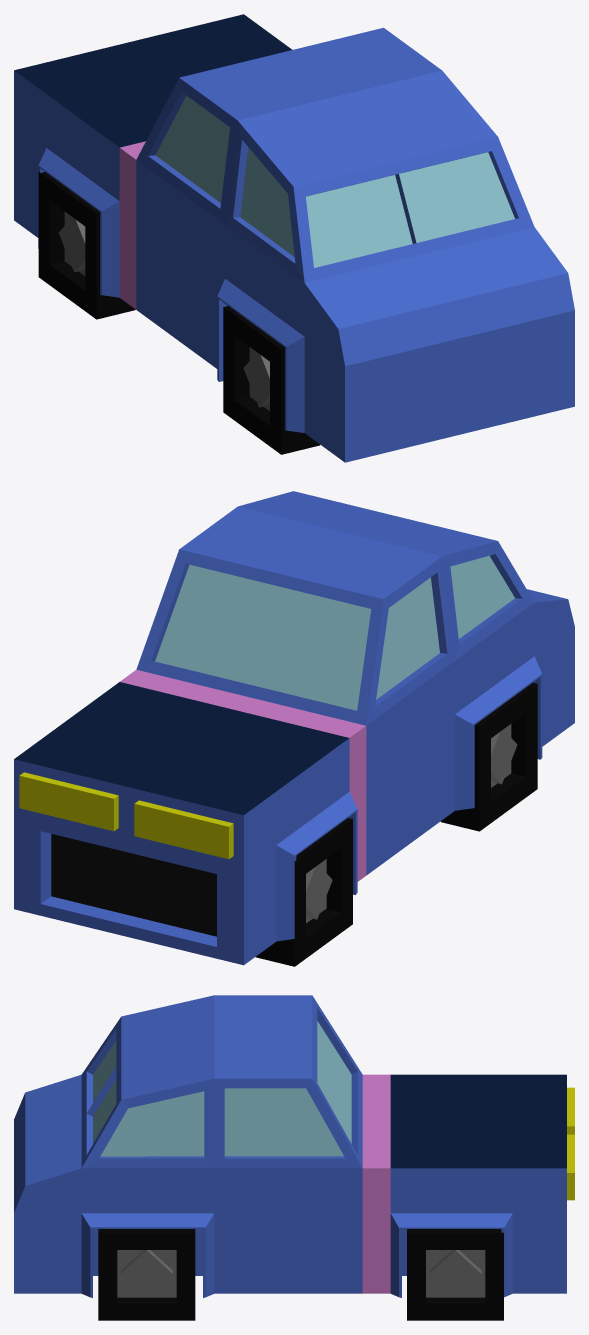
The model's file is car.obj.
3 views of the same model, one above another, from view 1: azimuth 30°, elevation 25°; view 2: azimuth 150°, elevation 25°; view 3: azimuth 270°, elevation 25° (orthographic). The views are drawn at different scales.
Visible parts, largest first — view 1: Cube.001, Cube.002; view 2: Cube.001, Cube.002; view 3: Cube.001, Cube.002.
Part boxes in pixels (x1,y1,x2,y2): Cube.001: (14,14,574,462); Cube.002: (38,172,320,454); Cube.001: (14,491,574,965); Cube.002: (256,682,537,966); Cube.001: (14,995,574,1297); Cube.002: (98,1229,503,1320).
Size of the model in its own units: 1.79 by 1.85 by 4.06.
